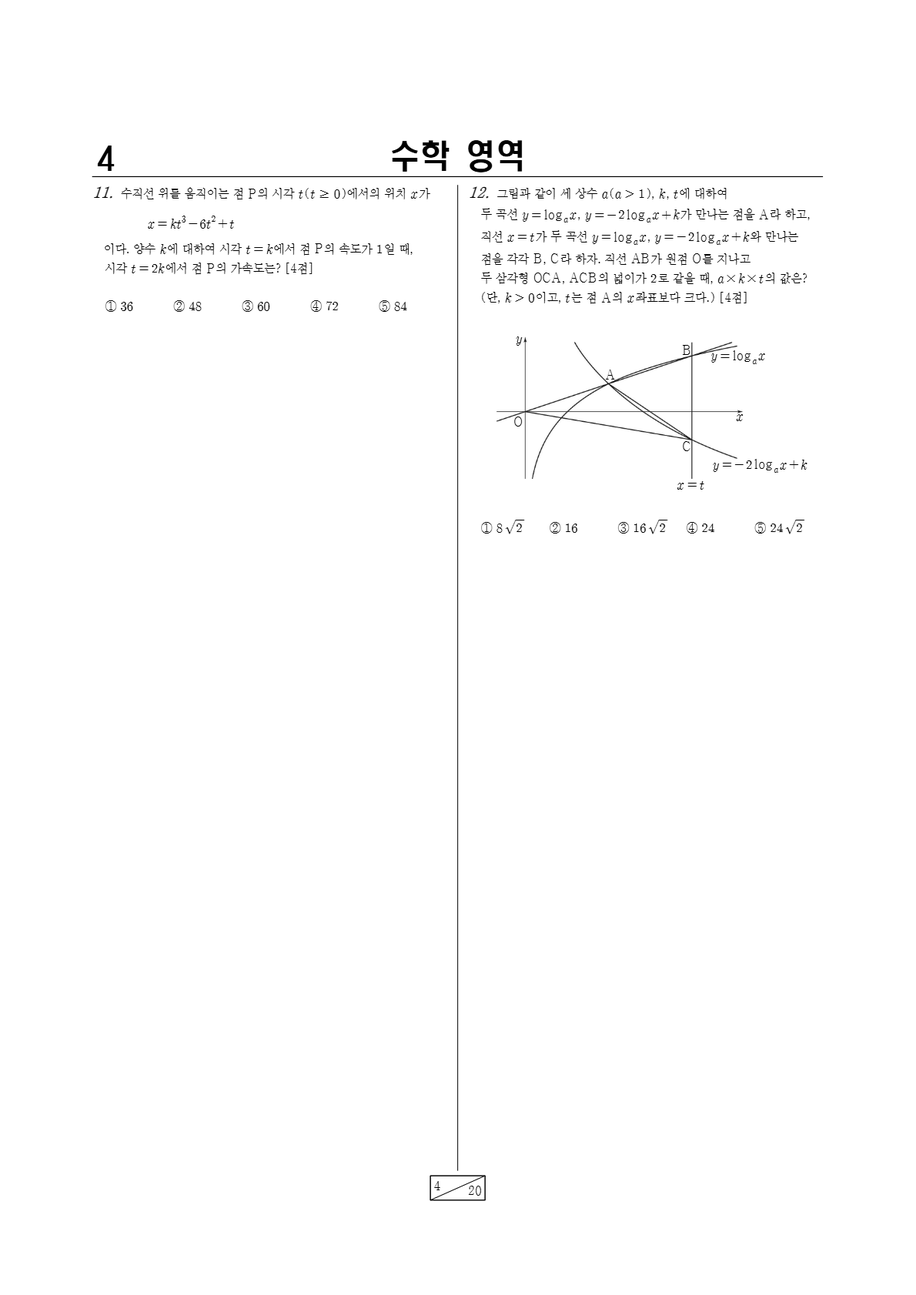opt_1: (480, 521, 492, 533), (105, 297, 116, 310)
opt_2: (173, 299, 184, 312), (550, 521, 560, 534)
opt_3: (242, 299, 253, 312), (617, 521, 628, 534)
opt_4: (309, 299, 321, 312), (686, 521, 697, 534)
opt_5: (379, 299, 390, 312), (754, 521, 765, 534)
